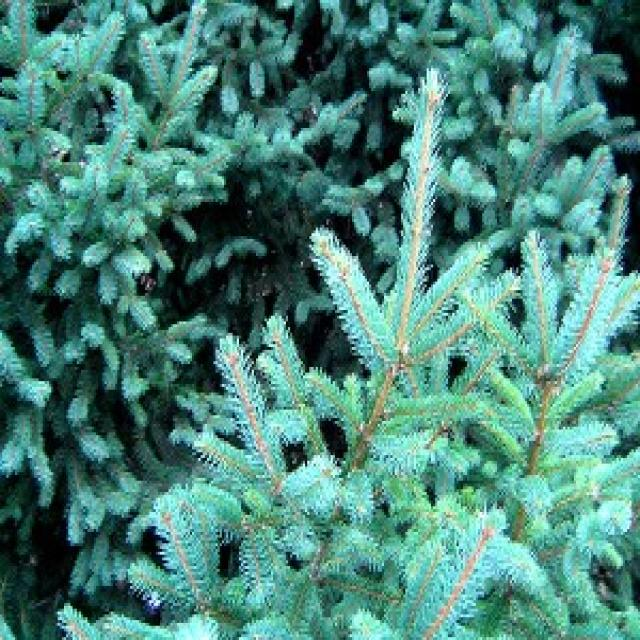Healthy: (59, 69, 639, 638), (1, 1, 234, 559), (319, 1, 632, 226)
